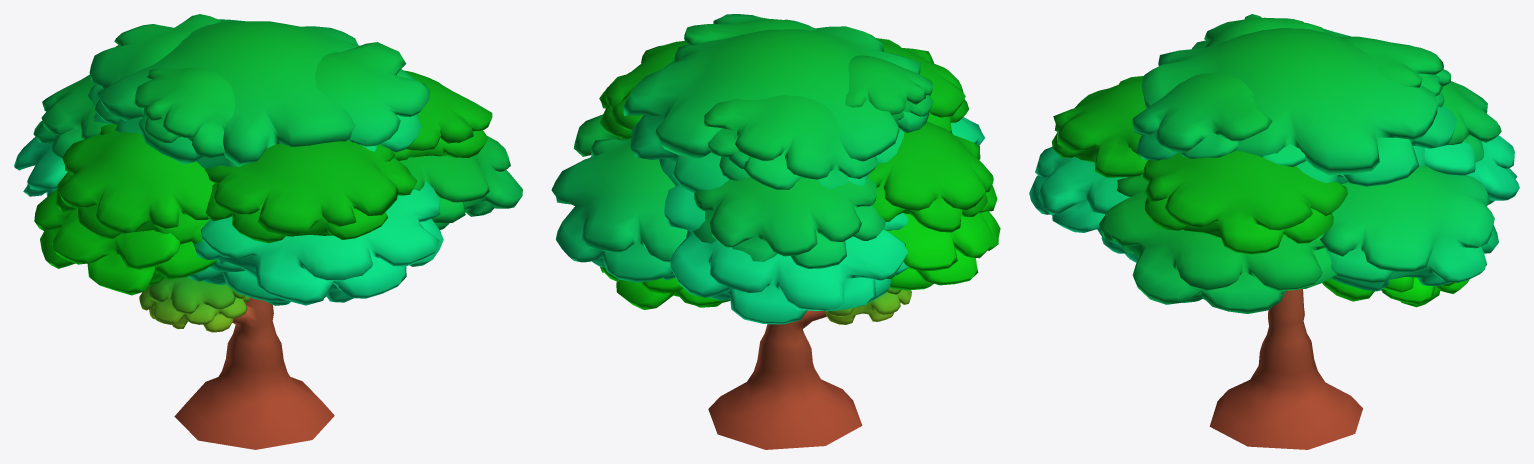
File: Tree_01.fbx
The picture shows the model from 3 angles, left to right: view 1: azimuth 30°, elevation 25°; view 2: azimuth 150°, elevation 25°; view 3: azimuth 270°, elevation 25°; orthographic projection.
Parts seen in each view (by area): view 1: Tree_01; view 2: Tree_01; view 3: Tree_01.
Part boxes in pixels (x1=…): Tree_01: x1=14, y1=14, x2=522, y2=449; Tree_01: x1=551, y1=14, x2=1000, y2=449; Tree_01: x1=1029, y1=14, x2=1519, y2=449.
Size of the model in its own units: 680 by 592 by 704.
